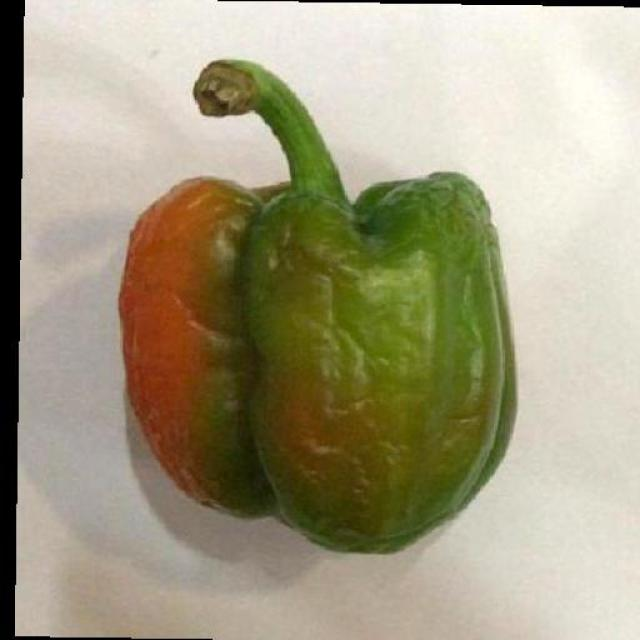Stale_Capsicum: (127, 128, 537, 552)
